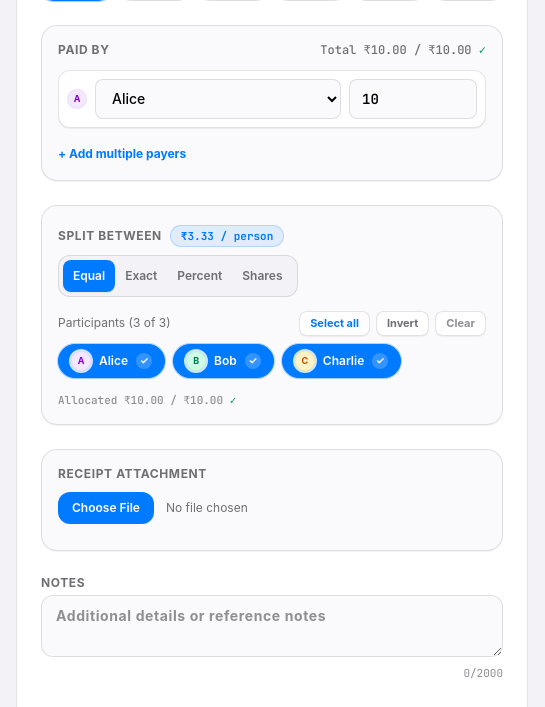
Scenario: ExpenseFormPage Interactive & State Machine Tests › participant chips: 'Select all', 'Clear', and 'Invert' update selected participants reactively
(page scrolled)
Expected: the text "Participants (3 of 3)" is shown, [58,316,170,332]
Note: Click Clear
Click the button "Clear": (461, 324) [435,311,486,336]
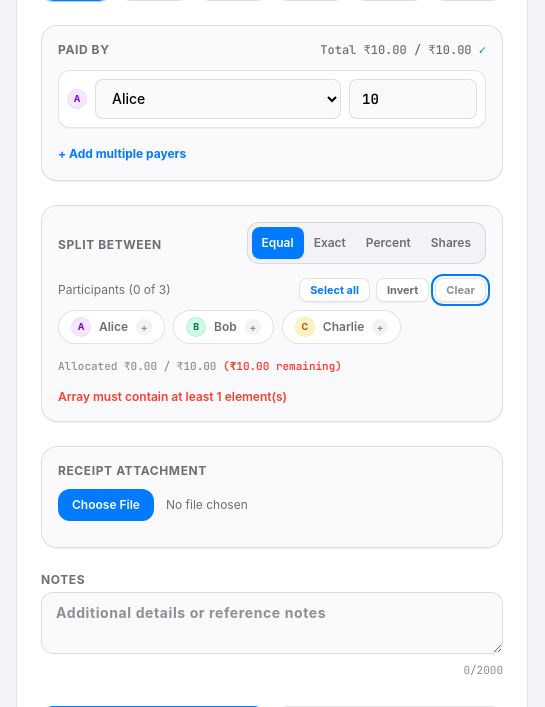
Now the text "Participants (0 of 3)" is shown, box [58,282,171,298]
Now the text "Allocated ₹0.00 / ₹10.00 (₹10.00 remaining)" is shown, box [58,359,342,373]
Note: Click Select all
Click the button "Select all": (335, 290) [299,278,370,302]
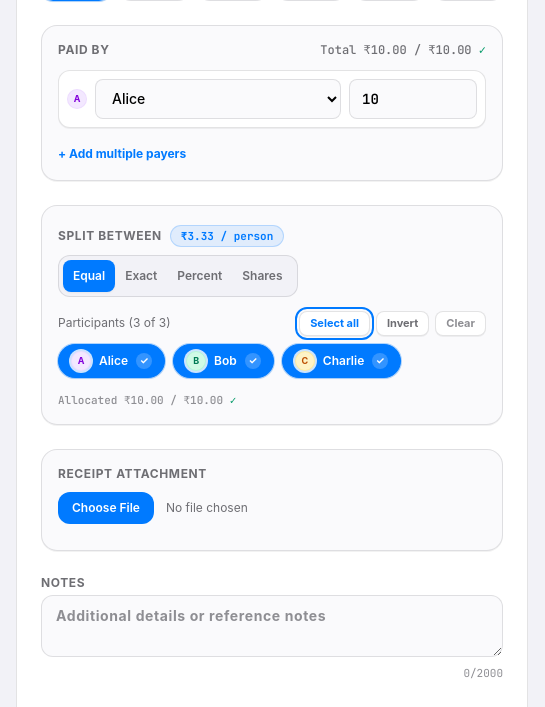
Now the text "Participants (3 of 3)" is shown, box [58,316,170,332]
Now the text "Allocated ₹10.00 / ₹10.00 ✓" is shown, box [58,393,236,407]
Note: Toggle Alice off (leaving Bob & Charlie)
Click the button "A Alice ✓": (112, 361) [58,344,165,378]
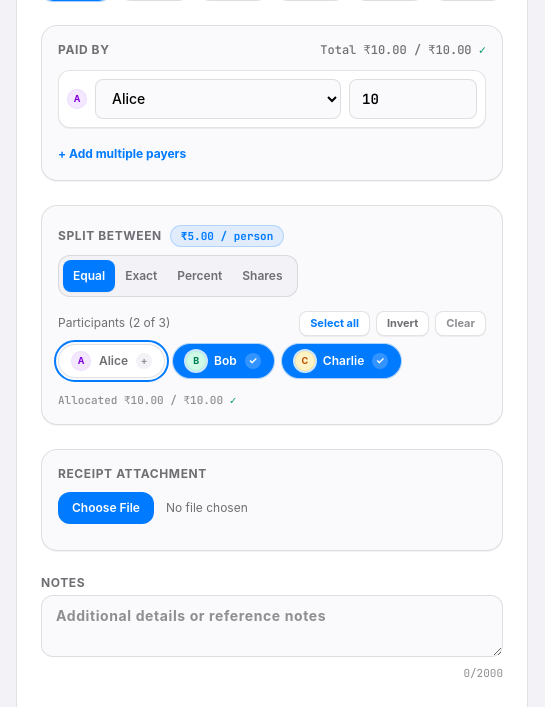
Now the text "Participants (2 of 3)" is shown, box [58,316,170,332]
Note: Click Invert (now Alice selected, Bob & Charlie deselected)
Click the button "Invert": (403, 324) [376,311,429,336]
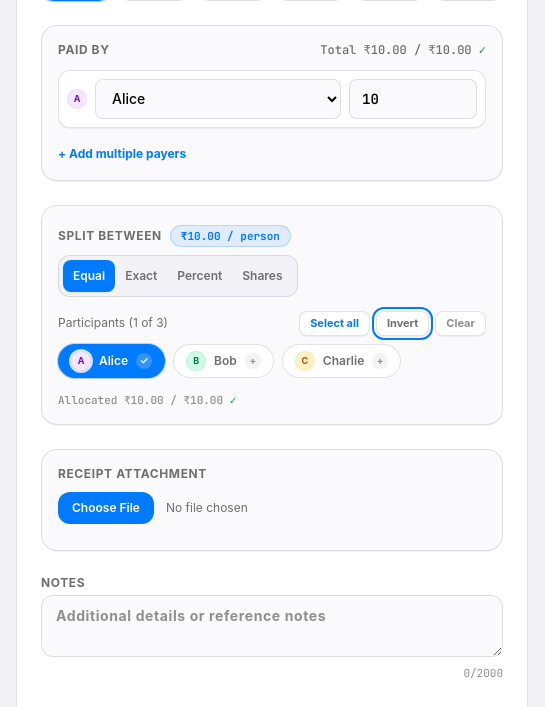
Now the text "Allocated ₹10.00 / ₹10.00 ✓" is shown, box [58,393,236,407]
Now the text "Participants (1 of 3)" is shown, box [58,316,168,332]
